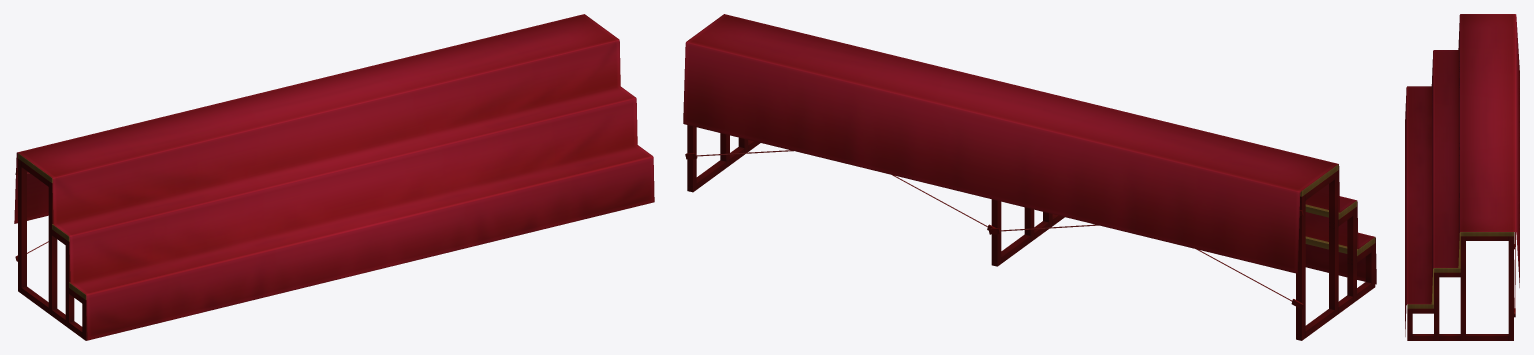
Rendered from jsf_Table_05.fbx.
3 views of the same model, side by side, from view 1: azimuth 30°, elevation 25°; view 2: azimuth 150°, elevation 25°; view 3: azimuth 270°, elevation 25° (orthographic). The views are drawn at different scales.
Parts seen in each view (by area): view 1: jsf_Table_05; view 2: jsf_Table_05; view 3: jsf_Table_05.
Part boxes in pixels (x1=…): jsf_Table_05: x1=14, y1=14, x2=654, y2=340; jsf_Table_05: x1=683, y1=14, x2=1376, y2=340; jsf_Table_05: x1=1405, y1=14, x2=1519, y2=340.
Size of the model in its own units: 292 by 67.65 by 64.63.
